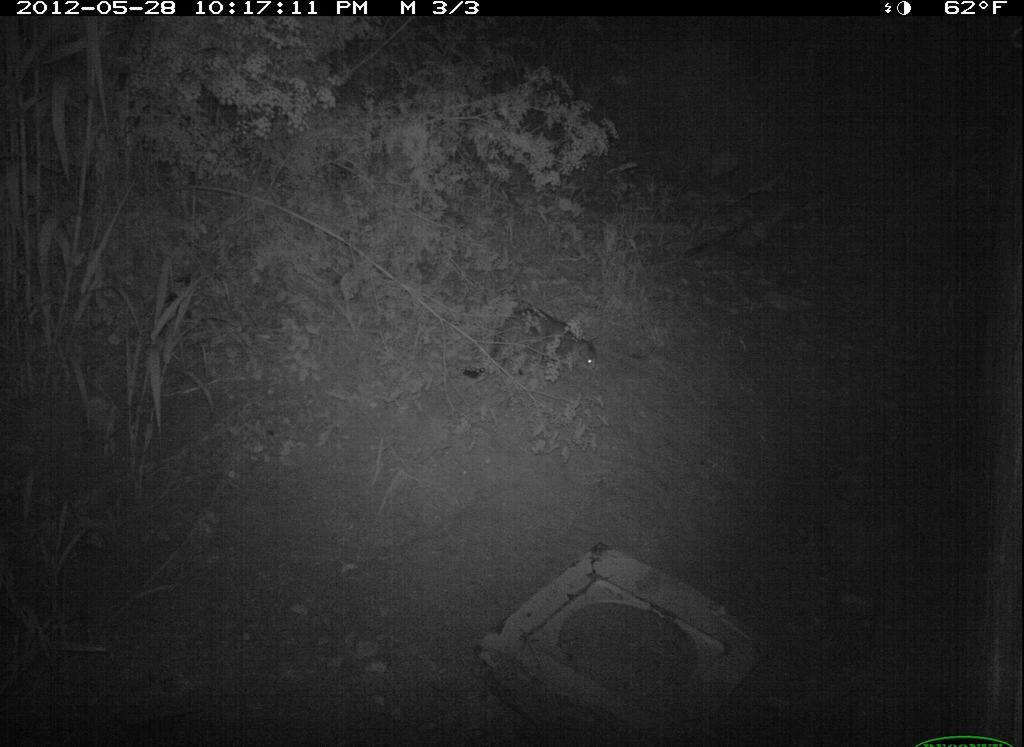cat: (463, 303, 602, 388)
